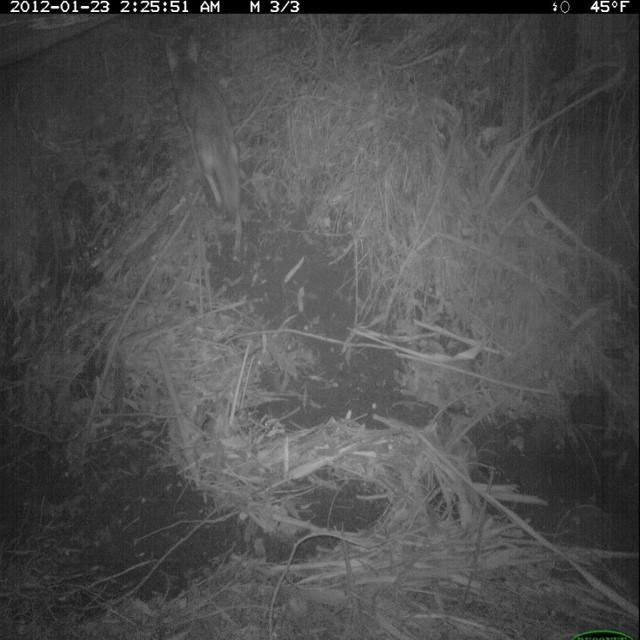coyote: (158, 28, 252, 275)
